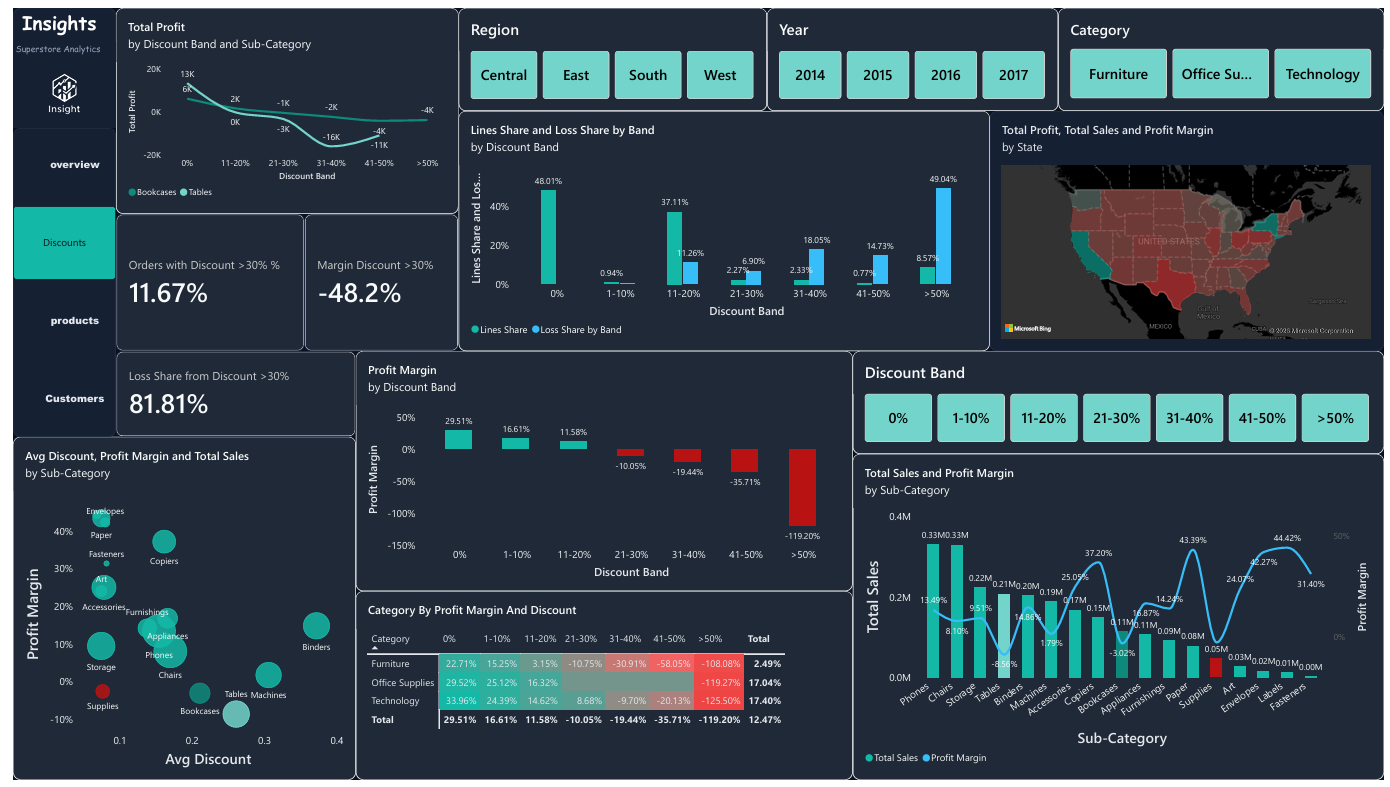

The dashboard page shown, as its layout file describes it:
{"tool":"powerbi","page":{"name":"Discounts ","canvas":[1920,1080],"ordinal":1},"visuals":[{"type":"cardVisual","fields":{"Data":["Sample - Superstore.Lines with Discount >30% %"]},"box":[144,288,264,192],"z":0},{"type":"cardVisual","fields":{"Data":["Sample - Superstore.Margin Discount >30%"]},"box":[408,288,216,192],"z":1000},{"type":"columnChart","fields":{"Category":["Sample - Superstore.Discount Band"],"Y":["Sample - Superstore.Profit Margin"]},"box":[480,480,696,336],"z":2000},{"type":"pivotTable","title":"Category By Profit Margin And Discount","fields":{"Columns":["Sample - Superstore.Discount Band"],"Rows":["dimension product.Category"],"Values":["Sample - Superstore.Profit Margin"]},"box":[480,816,696,264],"z":3000},{"type":"lineChart","fields":{"Category":["Sample - Superstore.Discount Band"],"Series":["dimension product.Sub-Category"],"Y":["Sample - Superstore.Total Profit"]},"box":[144,0,480,288],"z":4000},{"type":"scatterChart","fields":{"Category":["dimension product.Sub-Category"],"Size":["Sample - Superstore.Total Sales"],"X":["Sample - Superstore.Avg Discount"],"Y":["Sample - Superstore.Profit Margin"]},"box":[0,600,480,480],"z":5000},{"type":"advancedSlicerVisual","fields":{"Values":["dimension product.Category"]},"box":[1464,0,456,144],"z":6000},{"type":"advancedSlicerVisual","fields":{"Values":["dimension date.Year"]},"box":[1056,0,408,144],"z":7000},{"type":"filledMap","fields":{"Category":["Sample - Superstore.State"]},"box":[1368,144,552,336],"z":8000},{"type":"clusteredColumnChart","fields":{"Category":["Sample - Superstore.Discount Band"],"Y":["Sample - Superstore.Lines Share for each disc band","Sample - Superstore.Loss Share by Band"]},"box":[624,144,744,336],"z":9000},{"type":"lineClusteredColumnComboChart","fields":{"Category":["dimension product.Sub-Category"],"Y":["Sample - Superstore.Total Sales"],"Y2":["Sample - Superstore.Profit Margin"]},"box":[1176,624,744,456],"z":10000},{"type":"advancedSlicerVisual","fields":{"Values":["Sample - Superstore.Discount Band"]},"box":[1176,480,744,144],"z":11000},{"type":"image","box":[0,72,144,96],"z":12000},{"type":"pageNavigator","box":[0,168,144,432],"z":13000},{"type":"textbox","box":[0,0,144,72],"z":14000},{"type":"textbox","box":[0,48,144,32],"z":15000},{"type":"cardVisual","fields":{"Data":["Sample - Superstore.Loss Share from Discount >30%"]},"box":[144,480,336,120],"z":16000},{"type":"advancedSlicerVisual","fields":{"Values":["Sample - Superstore.Region"]},"box":[624,0,432,144],"z":17000}]}

Visuals, with their boxes in screenshot pixels (x1, y1, x2, y2), scaled from the page's 1920x1080 canvas onto the 1390x787 screenshot:
cardVisual - Sample - Superstore.Lines with Discount >30% %: [104, 210, 295, 350]
cardVisual - Sample - Superstore.Margin Discount >30%: [295, 210, 452, 350]
columnChart - Sample - Superstore.Discount Band x Sample - Superstore.Profit Margin: [348, 350, 851, 595]
"Category By Profit Margin And Discount" pivotTable: [348, 595, 851, 786]
lineChart - Sample - Superstore.Discount Band x dimension product.Sub-Category: [104, 0, 452, 210]
scatterChart - dimension product.Sub-Category x Sample - Superstore.Total Sales: [0, 437, 348, 786]
advancedSlicerVisual - dimension product.Category: [1060, 0, 1389, 105]
advancedSlicerVisual - dimension date.Year: [764, 0, 1060, 105]
filledMap - Sample - Superstore.State: [990, 105, 1389, 350]
clusteredColumnChart - Sample - Superstore.Discount Band x Sample - Superstore.Lines Share for each disc band: [452, 105, 990, 350]
lineClusteredColumnComboChart - dimension product.Sub-Category x Sample - Superstore.Total Sales: [851, 455, 1389, 786]
advancedSlicerVisual - Sample - Superstore.Discount Band: [851, 350, 1389, 455]
image: [0, 52, 104, 122]
pageNavigator: [0, 122, 104, 437]
textbox: [0, 0, 104, 52]
textbox: [0, 35, 104, 58]
cardVisual - Sample - Superstore.Loss Share from Discount >30%: [104, 350, 348, 437]
advancedSlicerVisual - Sample - Superstore.Region: [452, 0, 764, 105]
